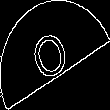O_SE: (31, 22, 79, 88)
